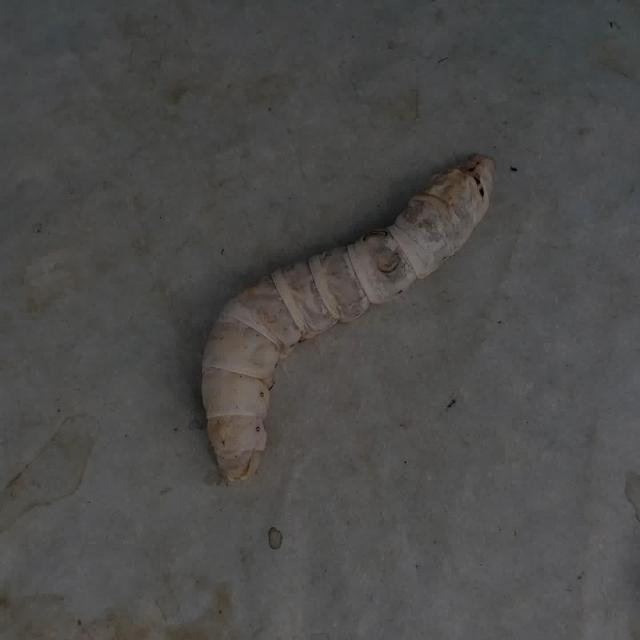Grasserie: (150, 118, 532, 506)
